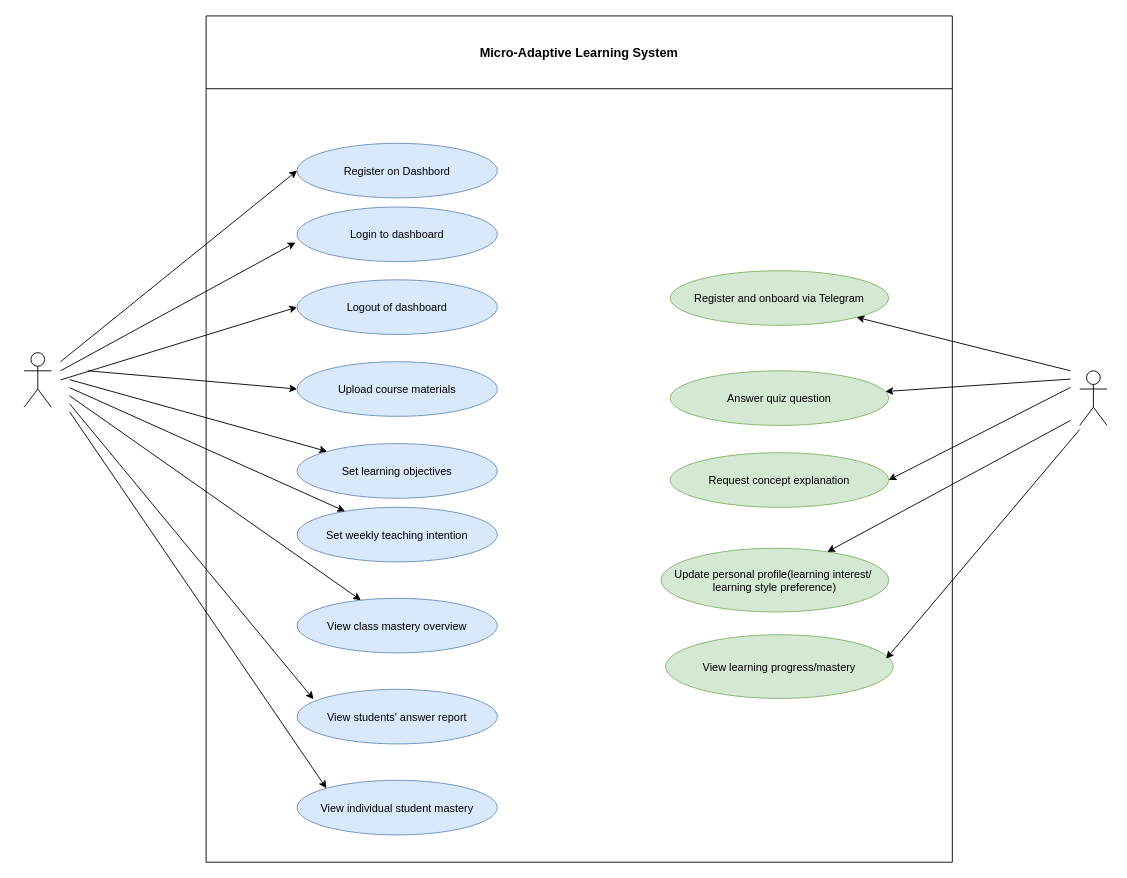
Image size: 1127x878. Some labels were removed from this diagram. Here are the shapes that lost their labels. From the top down, the box of each, then its label:
(23, 352, 51, 407): Educator
(1079, 370, 1107, 425): Student
